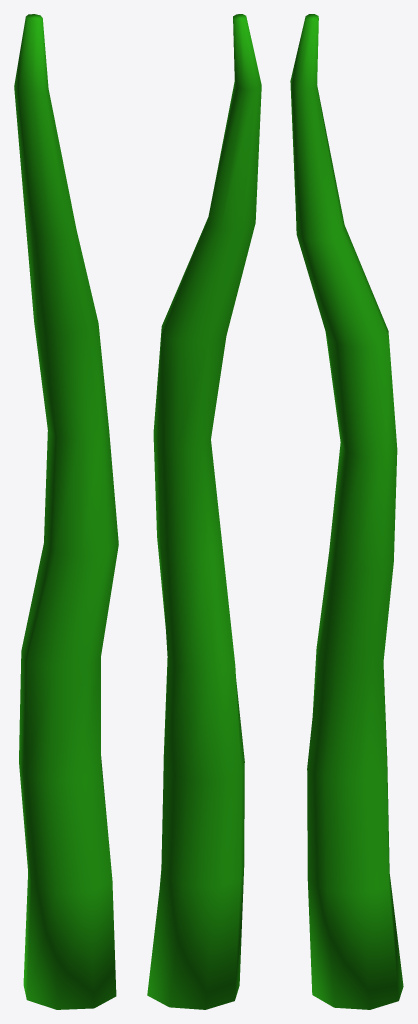
Rendered from GrassSideways.fbx.
3 views of the same model, side by side, from view 1: azimuth 30°, elevation 25°; view 2: azimuth 150°, elevation 25°; view 3: azimuth 330°, elevation 25° (orthographic). The views are drawn at different scales.
Visible parts, largest first — view 1: Cylinder.006; view 2: Cylinder.006; view 3: Cylinder.006.
Part boxes in pixels (<box>): Cylinder.006: <box>14,14,118,1009</box>; Cylinder.006: <box>147,14,261,1009</box>; Cylinder.006: <box>290,14,403,1009</box>.
Size of the model in its own units: 2.12 by 19.68 by 1.77.
